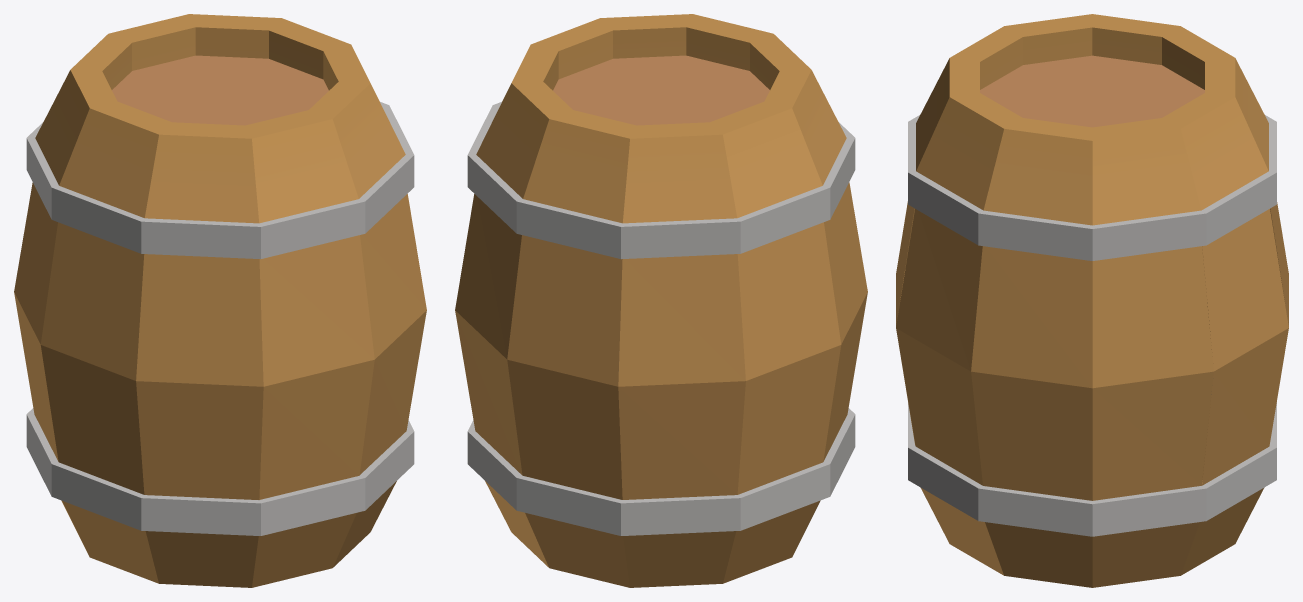
Rendered from zhuangshi_10.FBX.
3 renders of one model, left to right at view 1: azimuth 30°, elevation 25°; view 2: azimuth 150°, elevation 25°; view 3: azimuth 270°, elevation 25°, orthographic.
Parts seen in each view (by area): view 1: zhuangshi_10; view 2: zhuangshi_10; view 3: zhuangshi_10.
Boxes of the visible parts, box(x1,y1,x2,y2) form: zhuangshi_10: box(14, 14, 426, 587); zhuangshi_10: box(455, 14, 867, 587); zhuangshi_10: box(896, 14, 1288, 587).
Bounding box in the file's own units: 284 × 339 × 270.
